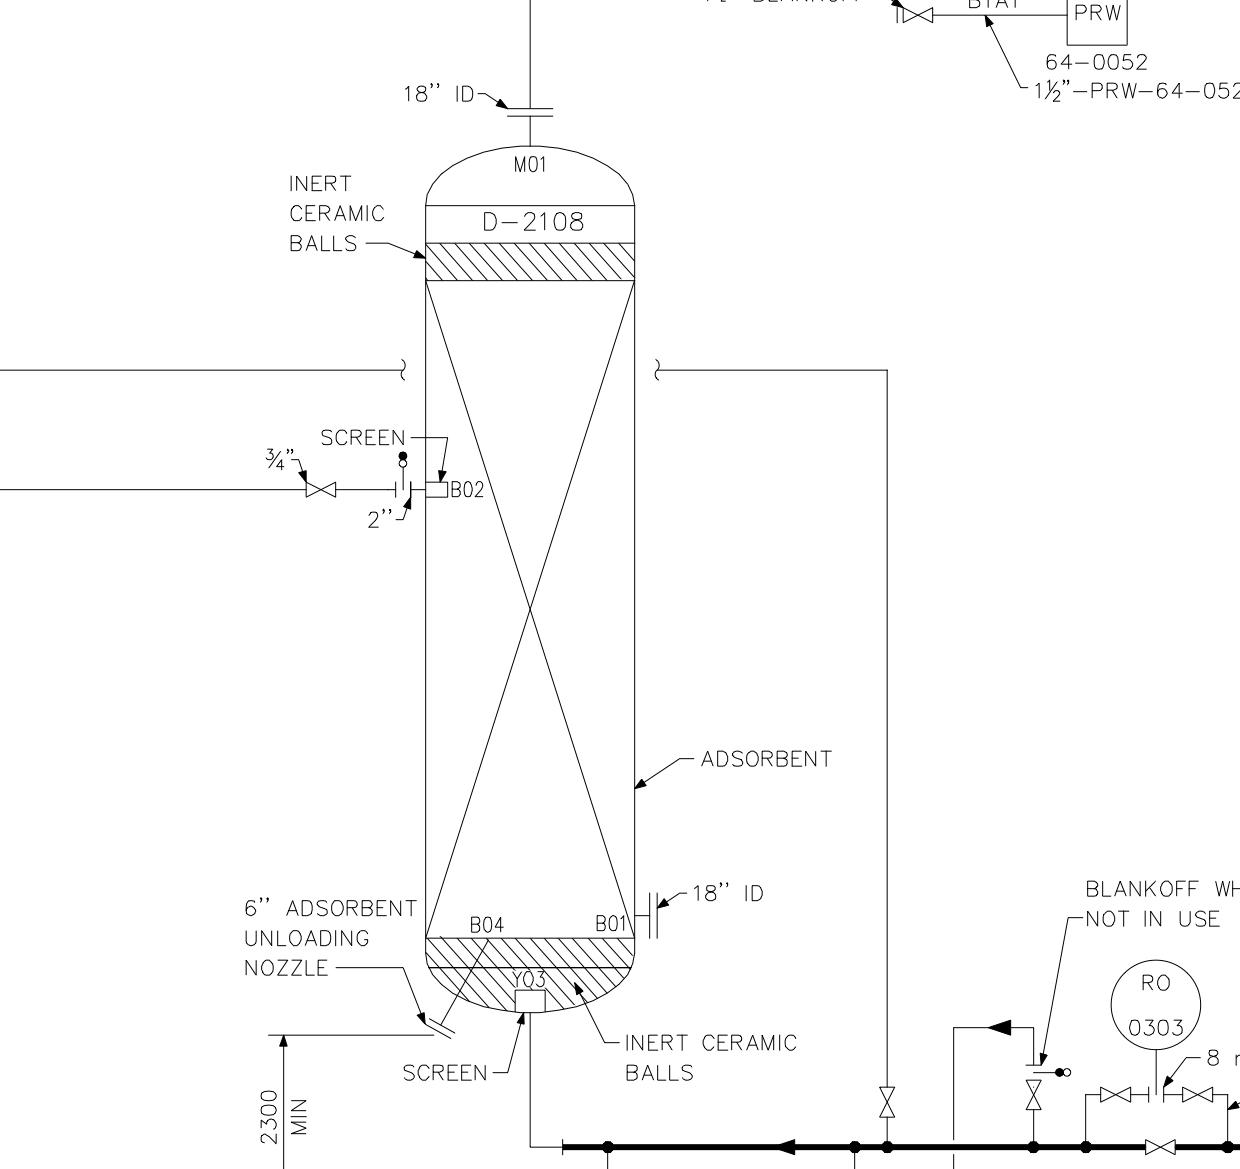Spetacle Blind: (1021, 1061, 1076, 1081)
